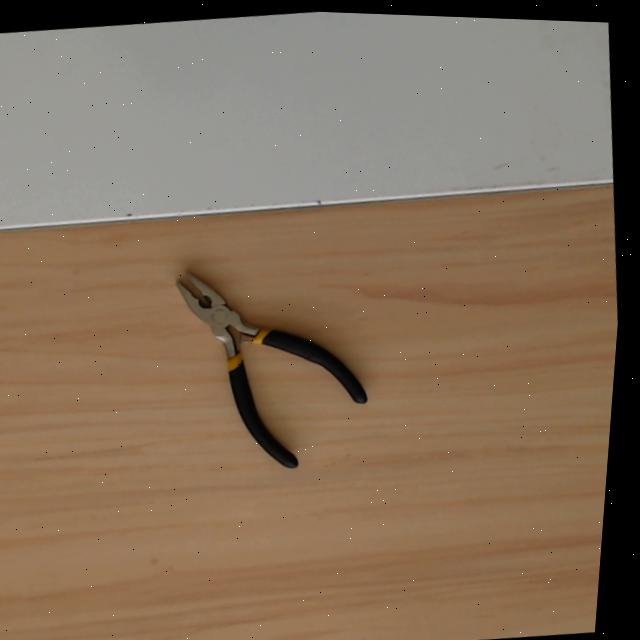Tang-Jepit-Hitam: (135, 233, 373, 476)
